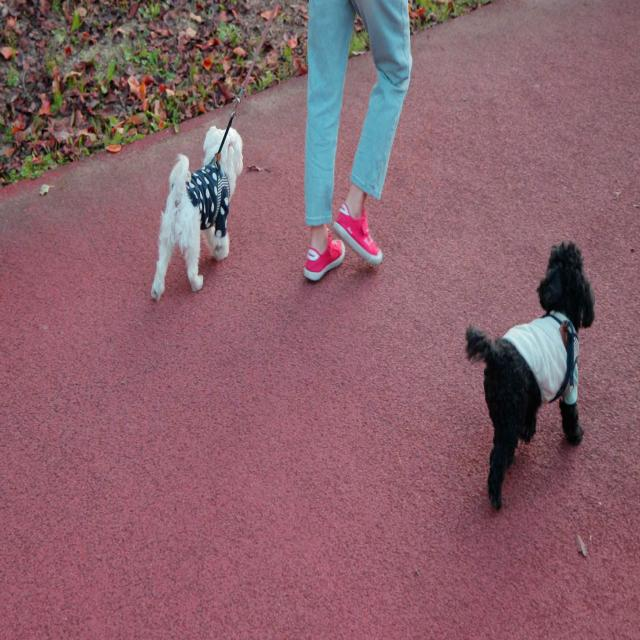Leashed_Dog: (151, 0, 342, 302)
Unleashed_Dog: (362, 90, 594, 513)
